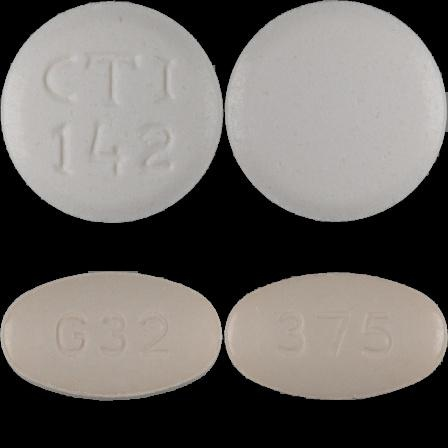50436-6601: (0, 0, 224, 224)
